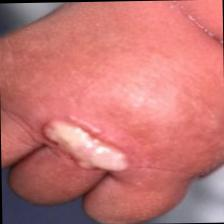extravasation-wound: (32, 114, 138, 177)
